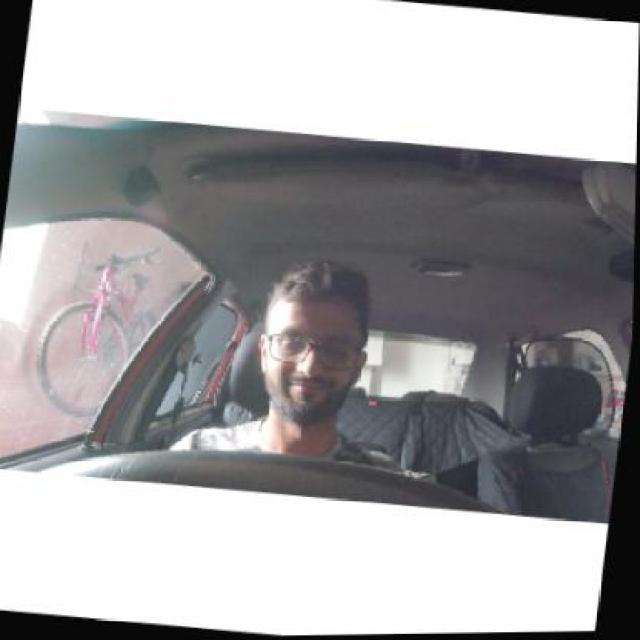drowsy: (258, 275, 368, 421)
